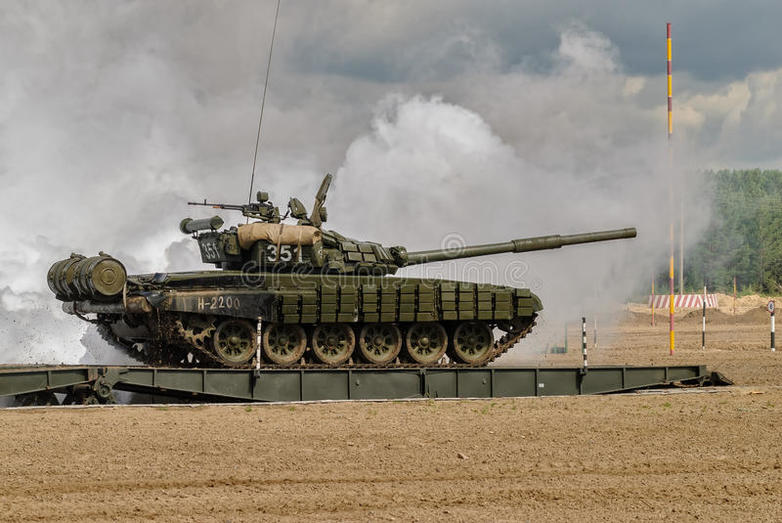t72: (51, 202, 643, 364)
